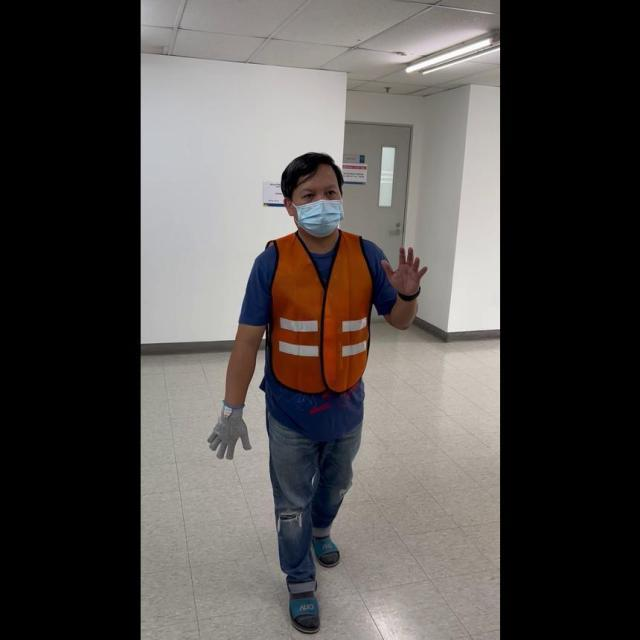bare_hand: (382, 241, 426, 297)
gloved_hand: (205, 400, 251, 459)
